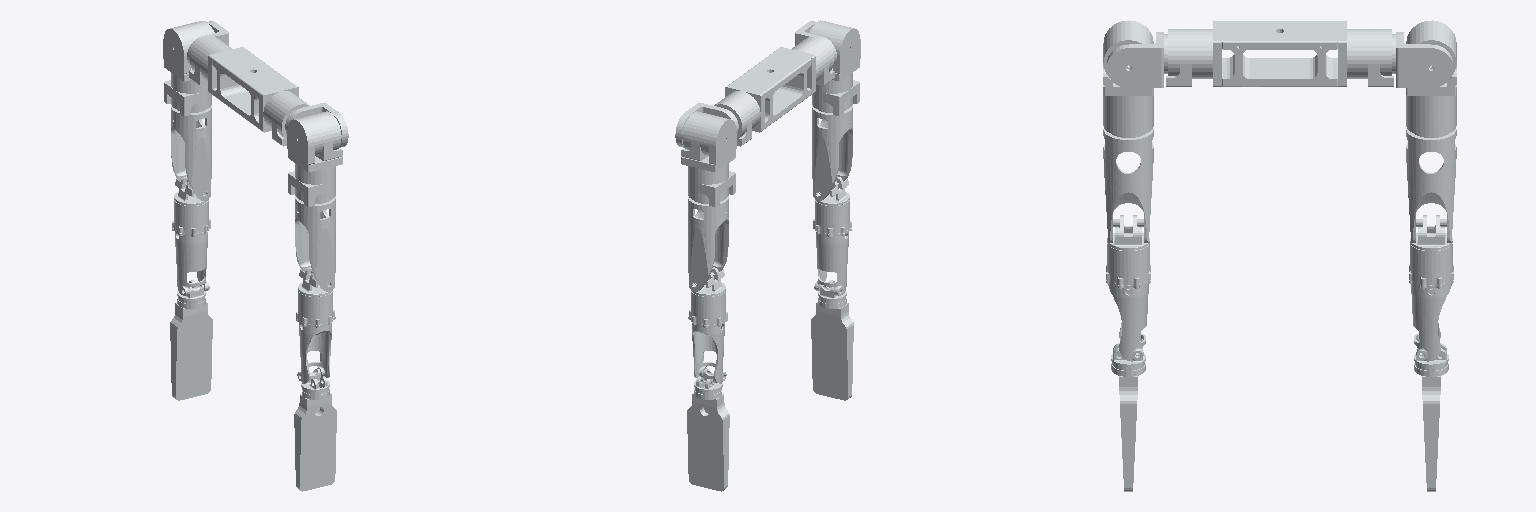
robot.urdf — cx_arm:
<?xml version="1.0" encoding="utf-8"?>
<!-- This URDF was automatically created by SolidWorks to URDF Exporter! Originally created by [author] ([email redacted]) 
     Commit Version: 1.6.0-4-g7f85cfe  Build Version: 1.6.7995.38578
     For more information, please see http://wiki.ros.org/sw_urdf_exporter -->
<robot
  name="cx_arm">
  <link
    name="base_link">
    <inertial>
      <origin
        xyz="-8.57785426963895E-06 2.91685088001456E-11 -0.000974489333363107"
        rpy="0 0 0" />
      <mass
        value="4.32625731944912" />
      <inertia
        ixx="0.00936193290592399"
        ixy="-2.41377958548306E-11"
        ixz="1.11730024887402E-06"
        iyy="0.00464359195689199"
        iyz="3.91172397325664E-12"
        izz="0.00881969682014568" />
    </inertial>
    <visual>
      <origin
        xyz="0 0 0"
        rpy="0 0 0" />
      <geometry>
        <mesh
          filename="package://cx_arm/meshes/base_link.STL" />
      </geometry>
      <material
        name="">
        <color
          rgba="0.898039215686275 0.917647058823529 0.929411764705882 1" />
      </material>
    </visual>
    <collision>
      <origin
        xyz="0 0 0"
        rpy="0 0 0" />
      <geometry>
        <mesh
          filename="package://cx_arm/meshes/base_link.STL" />
      </geometry>
    </collision>
  </link>
  <link
    name="Link101">
    <inertial>
      <origin
        xyz="3.09073246348727E-19 0.0311194583357993 -0.0313358876222972"
        rpy="0 0 0" />
      <mass
        value="0.308135455569499" />
      <inertia
        ixx="0.00036301532443775"
        ixy="-4.85280379528671E-20"
        ixz="1.31350202954282E-19"
        iyy="0.000311071590986095"
        iyz="-9.08288552069947E-05"
        izz="0.000308601623909284" />
    </inertial>
    <visual>
      <origin
        xyz="0 0 0"
        rpy="0 0 0" />
      <geometry>
        <mesh
          filename="package://cx_arm/meshes/Link101.STL" />
      </geometry>
      <material
        name="">
        <color
          rgba="0.898039215686275 0.917647058823529 0.929411764705882 1" />
      </material>
    </visual>
    <collision>
      <origin
        xyz="0 0 0"
        rpy="0 0 0" />
      <geometry>
        <mesh
          filename="package://cx_arm/meshes/Link101.STL" />
      </geometry>
    </collision>
  </link>
  <joint
    name="joint101"
    type="revolute">
    <origin
      xyz="0 0.241 0"
      rpy="0 -1.5708 -1.5708" />
    <parent
      link="base_link" />
    <child
      link="Link101" />
    <axis
      xyz="0 0 -1" />
    <limit
      lower="-3.14"
      upper="3.14"
      effort="100"
      velocity="1" />
  </joint>
  <link
    name="Link102">
    <inertial>
      <origin
        xyz="6.55817899986033E-11 0.0474740262124326 -0.000349231545579993"
        rpy="0 0 0" />
      <mass
        value="2.69736870589475" />
      <inertia
        ixx="0.0030082793755842"
        ixy="3.60652165853059E-11"
        ixz="-5.40640934400988E-11"
        iyy="0.0025464770034934"
        iyz="4.37126407123363E-05"
        izz="0.00284907972609921" />
    </inertial>
    <visual>
      <origin
        xyz="0 0 0"
        rpy="0 0 0" />
      <geometry>
        <mesh
          filename="package://cx_arm/meshes/Link102.STL" />
      </geometry>
      <material
        name="">
        <color
          rgba="0.898039215686275 0.917647058823529 0.929411764705882 1" />
      </material>
    </visual>
    <collision>
      <origin
        xyz="0 0 0"
        rpy="0 0 0" />
      <geometry>
        <mesh
          filename="package://cx_arm/meshes/Link102.STL" />
      </geometry>
    </collision>
  </link>
  <joint
    name="joint102"
    type="revolute">
    <origin
      xyz="0 0 0"
      rpy="0 1.5708 1.5708" />
    <parent
      link="Link101" />
    <child
      link="Link102" />
    <axis
      xyz="0 0 1" />
    <limit
      lower="-3.14"
      upper="3.14"
      effort="100"
      velocity="1" />
  </joint>
  <link
    name="Link103">
    <inertial>
      <origin
        xyz="0.00403786373486228 -8.5540454944355E-07 -0.110448513050592"
        rpy="0 0 0" />
      <mass
        value="0.542683241876569" />
      <inertia
        ixx="0.00196275066135883"
        ixy="1.20230059837595E-08"
        ixz="-0.000106647178605952"
        iyy="0.00182891010022251"
        iyz="-9.87744488589856E-08"
        izz="0.000634630066974942" />
    </inertial>
    <visual>
      <origin
        xyz="0 0 0"
        rpy="0 0 0" />
      <geometry>
        <mesh
          filename="package://cx_arm/meshes/Link103.STL" />
      </geometry>
      <material
        name="">
        <color
          rgba="0.898039215686275 0.917647058823529 0.929411764705882 1" />
      </material>
    </visual>
    <collision>
      <origin
        xyz="0 0 0"
        rpy="0 0 0" />
      <geometry>
        <mesh
          filename="package://cx_arm/meshes/Link103.STL" />
      </geometry>
    </collision>
  </link>
  <joint
    name="joint103"
    type="revolute">
    <origin
      xyz="0 0.31051 0"
      rpy="-1.5708 -1.5708 0" />
    <parent
      link="Link102" />
    <child
      link="Link103" />
    <axis
      xyz="0 0 1" />
    <limit
      lower="-3.14"
      upper="3.14"
      effort="100"
      velocity="1" />
  </joint>
  <link
    name="Link104">
    <inertial>
      <origin
        xyz="-0.0106288742525643 0.00774461275266647 2.27423330168008E-09"
        rpy="0 0 0" />
      <mass
        value="0.108256528066753" />
      <inertia
        ixx="4.03178186223482E-05"
        ixy="-5.57671127233385E-07"
        ixz="7.06454927788419E-12"
        iyy="5.26215340888357E-05"
        iyz="-6.91116952457739E-12"
        izz="4.11256800739082E-05" />
    </inertial>
    <visual>
      <origin
        xyz="0 0 0"
        rpy="0 0 0" />
      <geometry>
        <mesh
          filename="package://cx_arm/meshes/Link104.STL" />
      </geometry>
      <material
        name="">
        <color
          rgba="0.898039215686275 0.917647058823529 0.929411764705882 1" />
      </material>
    </visual>
    <collision>
      <origin
        xyz="0 0 0"
        rpy="0 0 0" />
      <geometry>
        <mesh
          filename="package://cx_arm/meshes/Link104.STL" />
      </geometry>
    </collision>
  </link>
  <joint
    name="joint104"
    type="revolute">
    <origin
      xyz="0.0125 0 0"
      rpy="1.5708 0 0" />
    <parent
      link="Link103" />
    <child
      link="Link104" />
    <axis
      xyz="0 0 -1" />
    <limit
      lower="-3.14"
      upper="3.14"
      effort="100"
      velocity="1" />
  </joint>
  <link
    name="Link105">
    <inertial>
      <origin
        xyz="0.00133867533735108 -2.520780639825E-07 -0.136878436349784"
        rpy="0 0 0" />
      <mass
        value="0.823764981510393" />
      <inertia
        ixx="0.000805503567246632"
        ixy="4.34642990628367E-09"
        ixz="-3.4217286340017E-05"
        iyy="0.000788139498917337"
        iyz="2.41350428188773E-08"
        izz="0.000520088884504294" />
    </inertial>
    <visual>
      <origin
        xyz="0 0 0"
        rpy="0 0 0" />
      <geometry>
        <mesh
          filename="package://cx_arm/meshes/Link105.STL" />
      </geometry>
      <material
        name="">
        <color
          rgba="0.898039215686275 0.917647058823529 0.929411764705882 1" />
      </material>
    </visual>
    <collision>
      <origin
        xyz="0 0 0"
        rpy="0 0 0" />
      <geometry>
        <mesh
          filename="package://cx_arm/meshes/Link105.STL" />
      </geometry>
    </collision>
  </link>
  <joint
    name="joint105"
    type="revolute">
    <origin
      xyz="-0.0125 0.20712 0"
      rpy="-1.5708 1.5708 0" />
    <parent
      link="Link104" />
    <child
      link="Link105" />
    <axis
      xyz="0 0 1" />
    <limit
      lower="-3.14"
      upper="3.14"
      effort="100"
      velocity="1" />
  </joint>
  <link
    name="Link106">
    <inertial>
      <origin
        xyz="-0.0147561154984304 0.115479110569376 -1.14344406730722E-08"
        rpy="0 0 0" />
      <mass
        value="1.03484290276942" />
      <inertia
        ixx="0.00380934495195938"
        ixy="5.37470018645263E-06"
        ixz="-7.18789559007885E-11"
        iyy="0.000540685574036727"
        iyz="-3.26010155413101E-10"
        izz="0.00341220175694068" />
    </inertial>
    <visual>
      <origin
        xyz="0 0 0"
        rpy="0 0 0" />
      <geometry>
        <mesh
          filename="package://cx_arm/meshes/Link106.STL" />
      </geometry>
      <material
        name="">
        <color
          rgba="0.898039215686275 0.917647058823529 0.929411764705882 1" />
      </material>
    </visual>
    <collision>
      <origin
        xyz="0 0 0"
        rpy="0 0 0" />
      <geometry>
        <mesh
          filename="package://cx_arm/meshes/Link106.STL" />
      </geometry>
    </collision>
  </link>
  <joint
    name="joint106"
    type="revolute">
    <origin
      xyz="0.015 0 0"
      rpy="1.5708 0 0" />
    <parent
      link="Link105" />
    <child
      link="Link106" />
    <axis
      xyz="0 0 -1" />
    <limit
      lower="-3.14"
      upper="3.14"
      effort="100"
      velocity="1" />
  </joint>
  <link
    name="Link201">
    <inertial>
      <origin
        xyz="-1.84414916847598E-17 0.0311194583357994 0.0313358876222972"
        rpy="0 0 0" />
      <mass
        value="0.308135455569499" />
      <inertia
        ixx="0.00036301532443775"
        ixy="-6.93176639822126E-20"
        ixz="5.27454345175039E-20"
        iyy="0.000311071590986095"
        iyz="9.08288552069948E-05"
        izz="0.000308601623909284" />
    </inertial>
    <visual>
      <origin
        xyz="0 0 0"
        rpy="0 0 0" />
      <geometry>
        <mesh
          filename="package://cx_arm/meshes/Link201.STL" />
      </geometry>
      <material
        name="">
        <color
          rgba="0.898039215686275 0.917647058823529 0.929411764705882 1" />
      </material>
    </visual>
    <collision>
      <origin
        xyz="0 0 0"
        rpy="0 0 0" />
      <geometry>
        <mesh
          filename="package://cx_arm/meshes/Link201.STL" />
      </geometry>
    </collision>
  </link>
  <joint
    name="joint201"
    type="revolute">
    <origin
      xyz="0 -0.241 0"
      rpy="0 -1.5708 -1.5708" />
    <parent
      link="base_link" />
    <child
      link="Link201" />
    <axis
      xyz="0 0 -1" />
    <limit
      lower="-3.14"
      upper="3.14"
      effort="100"
      velocity="1" />
  </joint>
  <link
    name="Link202">
    <inertial>
      <origin
        xyz="6.55818455097545E-11 0.0474740262124326 -0.00034923154558"
        rpy="0 0 0" />
      <mass
        value="2.69736870589475" />
      <inertia
        ixx="0.0030082793755842"
        ixy="3.60652161984646E-11"
        ixz="-5.40640933809016E-11"
        iyy="0.0025464770034934"
        iyz="4.37126407123364E-05"
        izz="0.00284907972609921" />
    </inertial>
    <visual>
      <origin
        xyz="0 0 0"
        rpy="0 0 0" />
      <geometry>
        <mesh
          filename="package://cx_arm/meshes/Link202.STL" />
      </geometry>
      <material
        name="">
        <color
          rgba="0.898039215686275 0.917647058823529 0.929411764705882 1" />
      </material>
    </visual>
    <collision>
      <origin
        xyz="0 0 0"
        rpy="0 0 0" />
      <geometry>
        <mesh
          filename="package://cx_arm/meshes/Link202.STL" />
      </geometry>
    </collision>
  </link>
  <joint
    name="joint202"
    type="revolute">
    <origin
      xyz="0 0 0"
      rpy="0 1.5708 1.5708" />
    <parent
      link="Link201" />
    <child
      link="Link202" />
    <axis
      xyz="0 0 -1" />
    <limit
      lower="-3.14"
      upper="3.14"
      effort="100"
      velocity="1" />
  </joint>
  <link
    name="Link203">
    <inertial>
      <origin
        xyz="0.00403786373486148 -8.55404549082728E-07 -0.110448513050592"
        rpy="0 0 0" />
      <mass
        value="0.542683241876568" />
      <inertia
        ixx="0.00196275066135882"
        ixy="1.20230059850405E-08"
        ixz="-0.00010664717860595"
        iyy="0.0018289101002225"
        iyz="-9.87744488602046E-08"
        izz="0.000634630066974935" />
    </inertial>
    <visual>
      <origin
        xyz="0 0 0"
        rpy="0 0 0" />
      <geometry>
        <mesh
          filename="package://cx_arm/meshes/Link203.STL" />
      </geometry>
      <material
        name="">
        <color
          rgba="0.898039215686275 0.917647058823529 0.929411764705882 1" />
      </material>
    </visual>
    <collision>
      <origin
        xyz="0 0 0"
        rpy="0 0 0" />
      <geometry>
        <mesh
          filename="package://cx_arm/meshes/Link203.STL" />
      </geometry>
    </collision>
  </link>
  <joint
    name="joint203"
    type="revolute">
    <origin
      xyz="0 0.31051 0"
      rpy="-1.5708 -1.5708 0" />
    <parent
      link="Link202" />
    <child
      link="Link203" />
    <axis
      xyz="0 0 -1" />
    <limit
      lower="-3.14"
      upper="3.14"
      effort="100"
      velocity="1" />
  </joint>
  <link
    name="Link204">
    <inertial>
      <origin
        xyz="-0.0106288743285585 0.00774461276828292 2.53762266755331E-09"
        rpy="0 0 0" />
      <mass
        value="0.108256528509688" />
      <inertia
        ixx="4.03178186913715E-05"
        ixy="-5.57671090684546E-07"
        ixz="7.66559441988123E-12"
        iyy="5.26215343038913E-05"
        iyz="-7.06238638861397E-12"
        izz="4.11256802411633E-05" />
    </inertial>
    <visual>
      <origin
        xyz="0 0 0"
        rpy="0 0 0" />
      <geometry>
        <mesh
          filename="package://cx_arm/meshes/Link204.STL" />
      </geometry>
      <material
        name="">
        <color
          rgba="0.898039215686275 0.917647058823529 0.929411764705882 1" />
      </material>
    </visual>
    <collision>
      <origin
        xyz="0 0 0"
        rpy="0 0 0" />
      <geometry>
        <mesh
          filename="package://cx_arm/meshes/Link204.STL" />
      </geometry>
    </collision>
  </link>
  <joint
    name="joint204"
    type="revolute">
    <origin
      xyz="0.0125 0 0"
      rpy="1.5708 0 0" />
    <parent
      link="Link203" />
    <child
      link="Link204" />
    <axis
      xyz="0 0 -1" />
    <limit
      lower="-3.14"
      upper="3.14"
      effort="100"
      velocity="1" />
  </joint>
  <link
    name="Link205">
    <inertial>
      <origin
        xyz="-0.00133867533735096 2.52078064112103E-07 -0.136878436349784"
        rpy="0 0 0" />
      <mass
        value="0.823764981510393" />
      <inertia
        ixx="0.00080550356724663"
        ixy="4.34642990674269E-09"
        ixz="3.42172863400182E-05"
        iyy="0.000788139498917335"
        iyz="-2.41350428190537E-08"
        izz="0.000520088884504294" />
    </inertial>
    <visual>
      <origin
        xyz="0 0 0"
        rpy="0 0 0" />
      <geometry>
        <mesh
          filename="package://cx_arm/meshes/Link205.STL" />
      </geometry>
      <material
        name="">
        <color
          rgba="0.898039215686275 0.917647058823529 0.929411764705882 1" />
      </material>
    </visual>
    <collision>
      <origin
        xyz="0 0 0"
        rpy="0 0 0" />
      <geometry>
        <mesh
          filename="package://cx_arm/meshes/Link205.STL" />
      </geometry>
    </collision>
  </link>
  <joint
    name="joint205"
    type="revolute">
    <origin
      xyz="-0.0125 0.20712 0"
      rpy="-1.5708 1.5708 0" />
    <parent
      link="Link204" />
    <child
      link="Link205" />
    <axis
      xyz="0 0 -1" />
    <limit
      lower="-3.14"
      upper="3.14"
      effort="100"
      velocity="1" />
  </joint>
  <link
    name="Link206">
    <inertial>
      <origin
        xyz="0.0147561154984302 0.115479110569376 1.14344406596036E-08"
        rpy="0 0 0" />
      <mass
        value="1.03484290276942" />
      <inertia
        ixx="0.00380934495195937"
        ixy="-5.37470018645118E-06"
        ixz="-7.18789559471613E-11"
        iyy="0.000540685574036725"
        iyz="3.26010156822639E-10"
        izz="0.00341220175694067" />
    </inertial>
    <visual>
      <origin
        xyz="0 0 0"
        rpy="0 0 0" />
      <geometry>
        <mesh
          filename="package://cx_arm/meshes/Link206.STL" />
      </geometry>
      <material
        name="">
        <color
          rgba="0.898039215686275 0.917647058823529 0.929411764705882 1" />
      </material>
    </visual>
    <collision>
      <origin
        xyz="0 0 0"
        rpy="0 0 0" />
      <geometry>
        <mesh
          filename="package://cx_arm/meshes/Link206.STL" />
      </geometry>
    </collision>
  </link>
  <joint
    name="joint206"
    type="revolute">
    <origin
      xyz="-0.015 0 0"
      rpy="1.5708 0 0" />
    <parent
      link="Link205" />
    <child
      link="Link206" />
    <axis
      xyz="0 0 1" />
    <limit
      lower="-3.14"
      upper="3.14"
      effort="100"
      velocity="1" />
  </joint>
</robot>

--- Facts derived from the render (not from the file) ---
The picture shows the robot from 3 angles, left to right: view 1: azimuth 30°, elevation 25°; view 2: azimuth 150°, elevation 25°; view 3: azimuth 270°, elevation 25°; orthographic projection.
Model cx_arm with 13 links and 12 joints (12 revolute), rooted at base_link, posed all joints at 0.
Links seen in each view (by area): view 1: base_link, Link202, Link206, Link106, Link103, Link203, Link102, Link105, Link205, Link201; view 2: base_link, Link102, Link106, Link206, Link203, Link103, Link202, Link205, Link105, Link101; view 3: base_link, Link202, Link102, Link105, Link205, Link103, Link203, Link101, Link201, Link106, Link206, Link104 (+1 smaller).
Boxes of the visible links, box(x1,y1,x2,y2) form: base_link: box(189, 37, 309, 146); Link202: box(287, 111, 342, 206); Link206: box(294, 369, 336, 491); Link106: box(170, 280, 212, 400); Link103: box(171, 105, 211, 200); Link203: box(295, 196, 335, 291); Link102: box(163, 21, 214, 115); Link105: box(172, 200, 210, 295); Link205: box(296, 291, 335, 383); Link201: box(285, 103, 348, 147); base_link: box(714, 37, 834, 146); Link102: box(681, 111, 736, 206); Link106: box(687, 369, 729, 491); Link206: box(811, 280, 853, 400); Link203: box(812, 105, 852, 200); Link103: box(688, 196, 728, 291); Link202: box(809, 20, 860, 115); Link205: box(813, 200, 851, 295); Link105: box(688, 291, 727, 383); Link101: box(675, 103, 738, 147); base_link: box(1164, 21, 1395, 86); Link202: box(1103, 20, 1153, 137); Link102: box(1406, 20, 1456, 137); Link105: box(1409, 243, 1453, 361); Link205: box(1106, 243, 1150, 361); Link103: box(1406, 129, 1456, 242); Link203: box(1103, 129, 1153, 242); Link101: box(1396, 32, 1452, 87); Link201: box(1107, 32, 1163, 87); Link106: box(1414, 341, 1448, 491); Link206: box(1111, 341, 1145, 491); Link104: box(1410, 215, 1452, 250).
Bounding box of the posed robot: 0.0938 × 0.562 × 0.7936 m (x, y, z).
13 mesh visuals loaded from 13 distinct referenced files (13 binary STL).